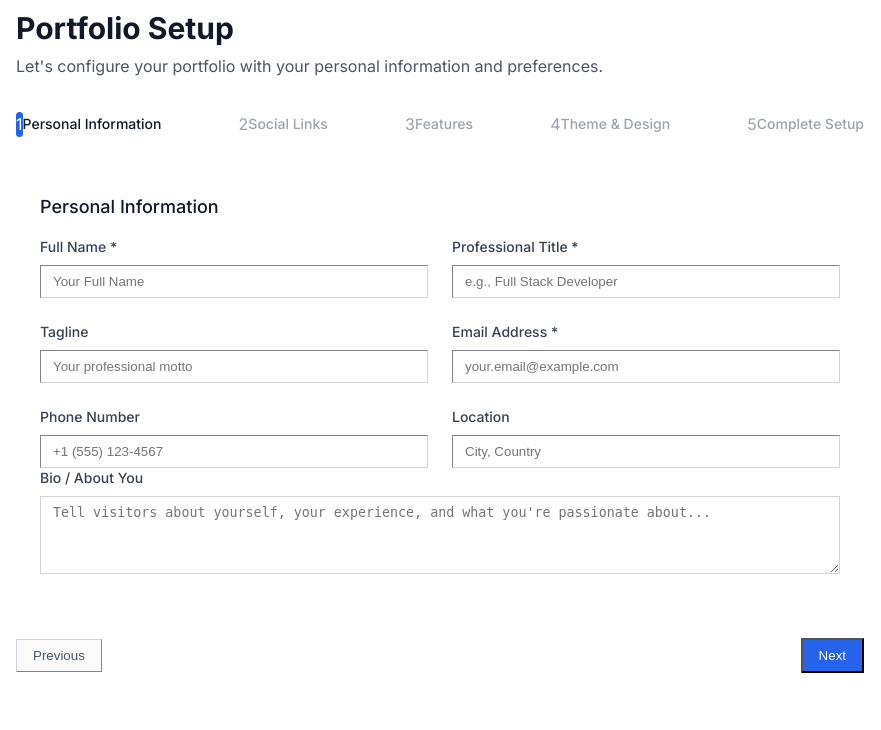
AdminSetupPage › should validate required fields
The image size is (881, 730).
Click the button "Next".
click(832, 655)  # box x1=801 y1=638 x2=864 y2=673
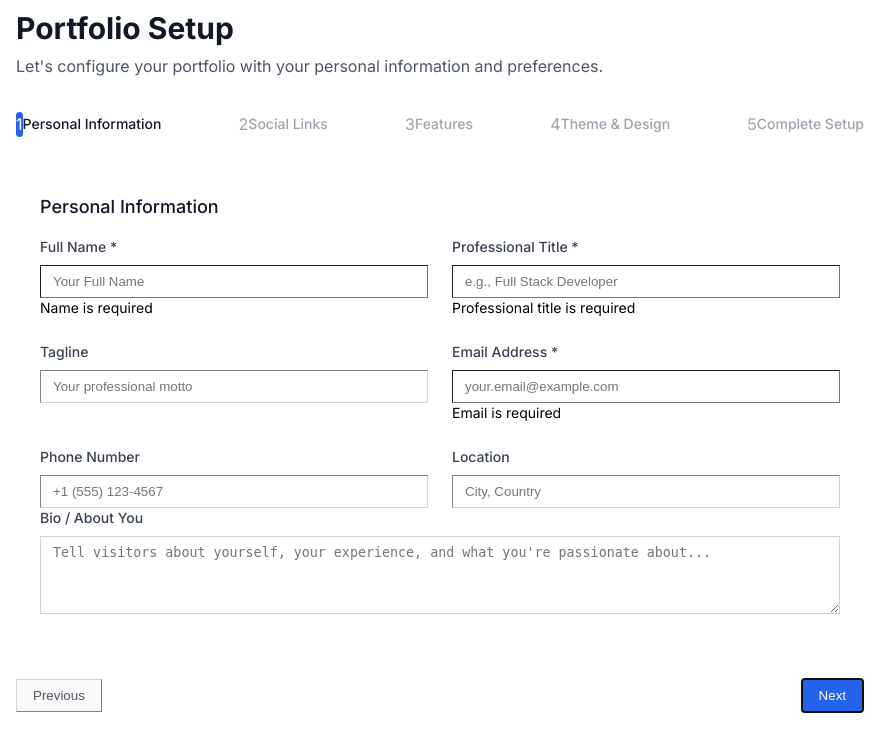
expect the text "Name is required" is shown: met, box x1=40 y1=299 x2=153 y2=316
expect the text "Professional title is required" is shown: met, box x1=452 y1=299 x2=635 y2=316
expect the text "Email is required" is shown: met, box x1=452 y1=404 x2=561 y2=421
